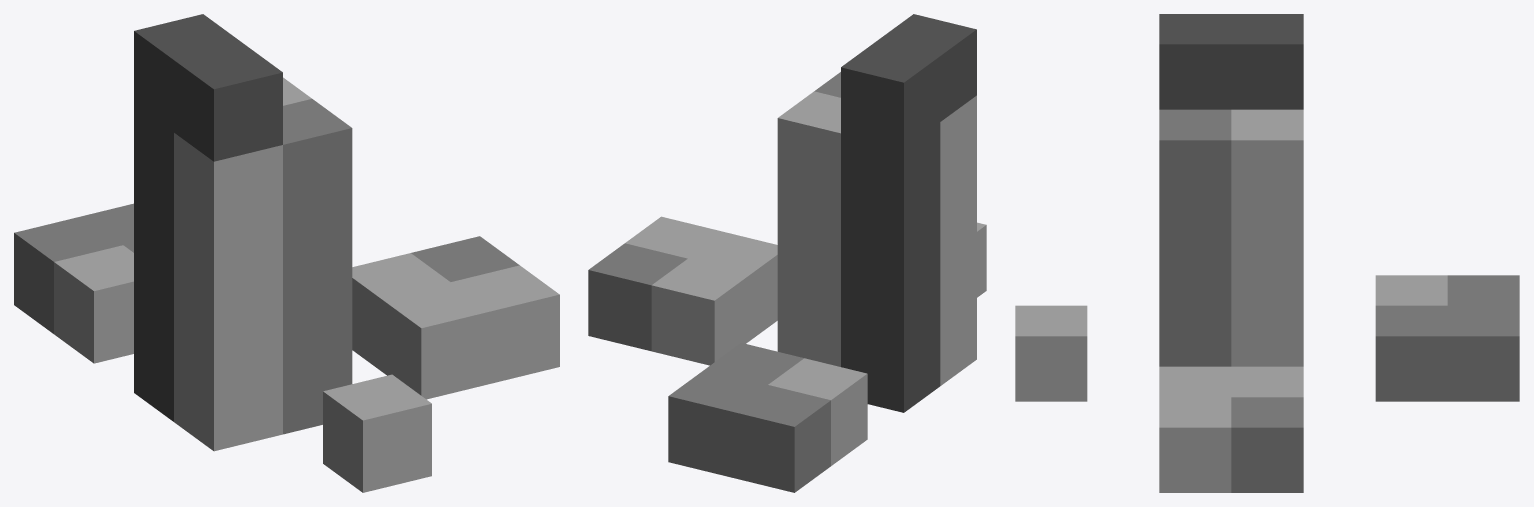
Rendered from stone_2.obj.
3 views of the same model, side by side, from view 1: azimuth 30°, elevation 25°; view 2: azimuth 150°, elevation 25°; view 3: azimuth 270°, elevation 25° (orthographic). The views are drawn at different scales.
Size of the model in its own units: 0.5 by 0.5 by 0.7.
1 material, 1 textured.
